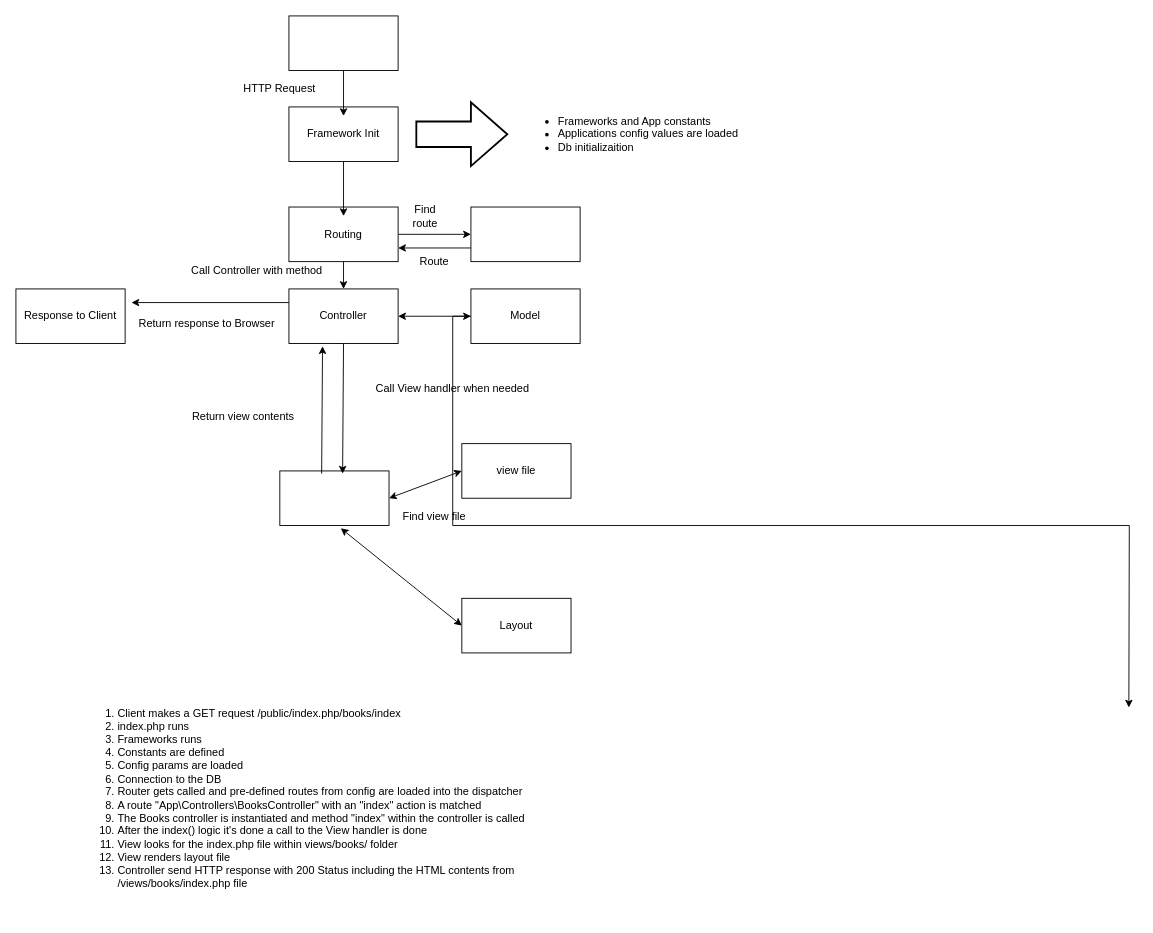
This 1153x933 diagram has some shape labels left out. Each missing label, with the centre of its shape:
"Client Request" goes at pixel 343 43.
"Routes" goes at pixel 525 234.
"View" goes at pixel 334 498.
